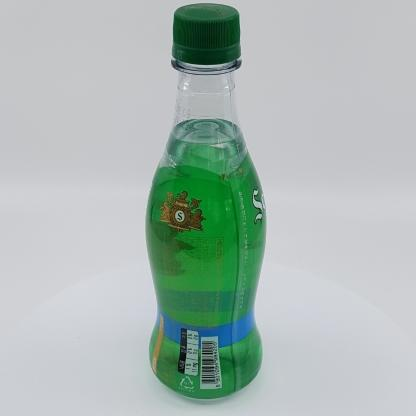--------350ML: (145, 3, 266, 401)
